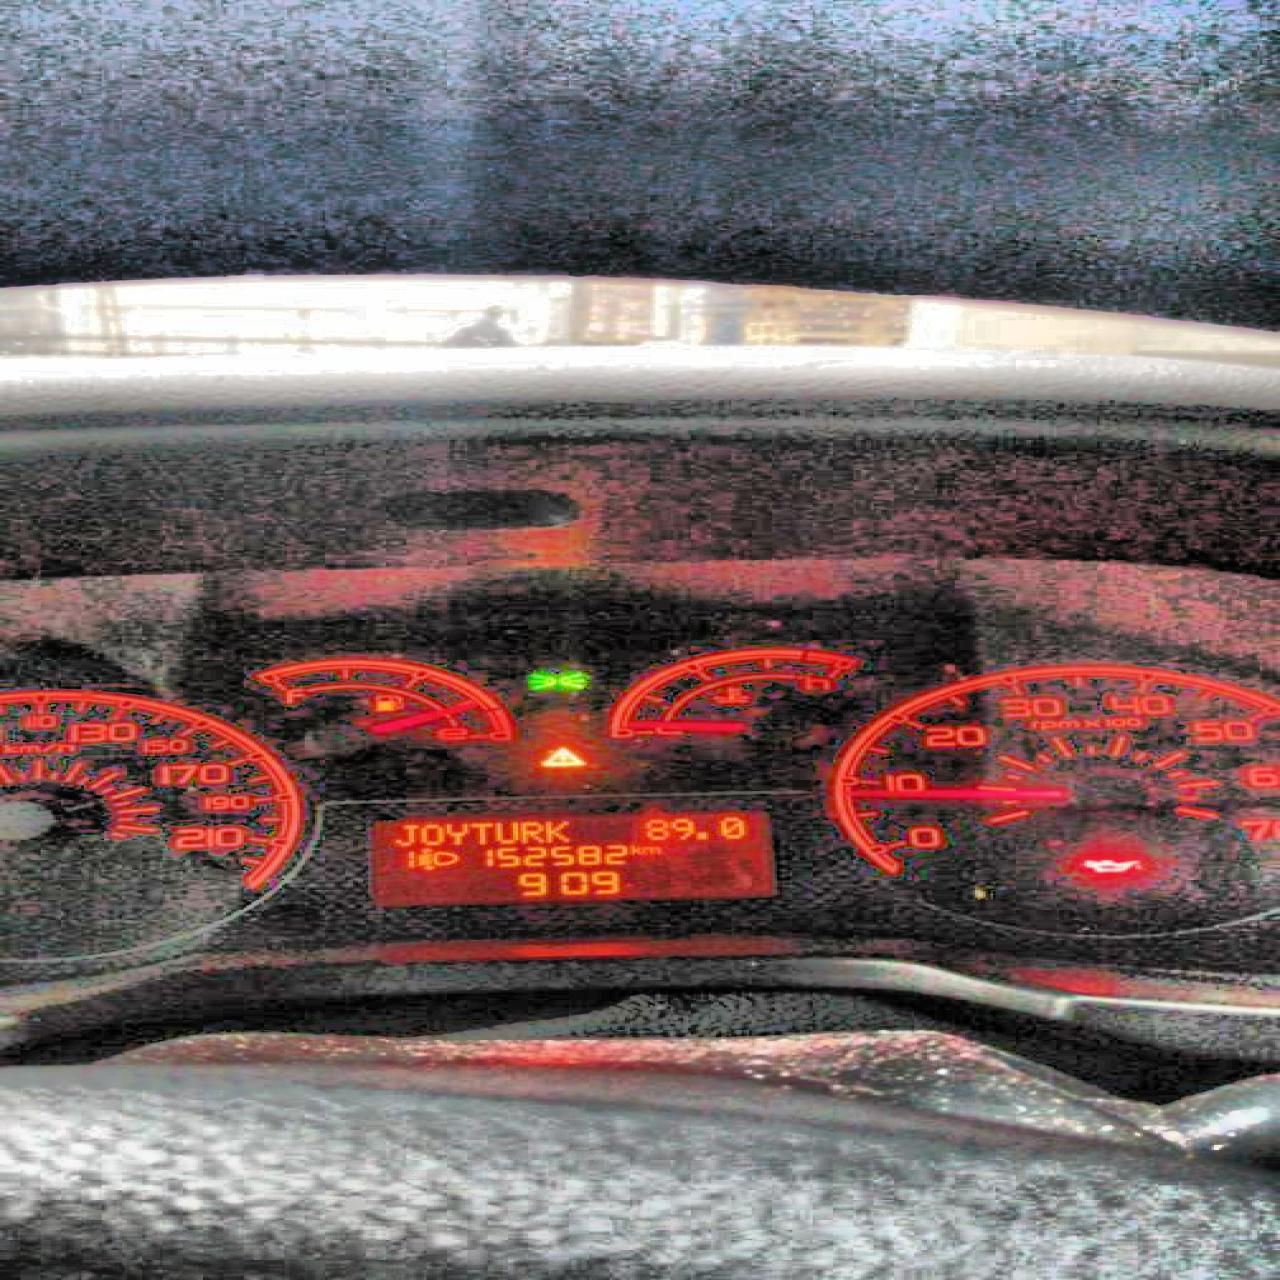-: (694, 830, 708, 840)
0: (553, 870, 586, 896), (716, 815, 747, 840)
1: (401, 849, 414, 869), (483, 846, 492, 869)
2: (601, 843, 627, 864), (520, 845, 546, 866)
5: (546, 845, 574, 865), (492, 845, 518, 866)
8: (640, 816, 668, 840), (574, 844, 602, 865)
9: (516, 870, 546, 896), (590, 869, 620, 893), (668, 816, 693, 839)
X: (544, 818, 572, 843), (468, 821, 492, 845), (389, 822, 414, 846), (492, 819, 518, 843), (444, 821, 468, 845), (518, 821, 542, 844), (416, 823, 440, 845), (640, 845, 660, 855), (627, 844, 640, 855)
odometer: (361, 809, 790, 907)
